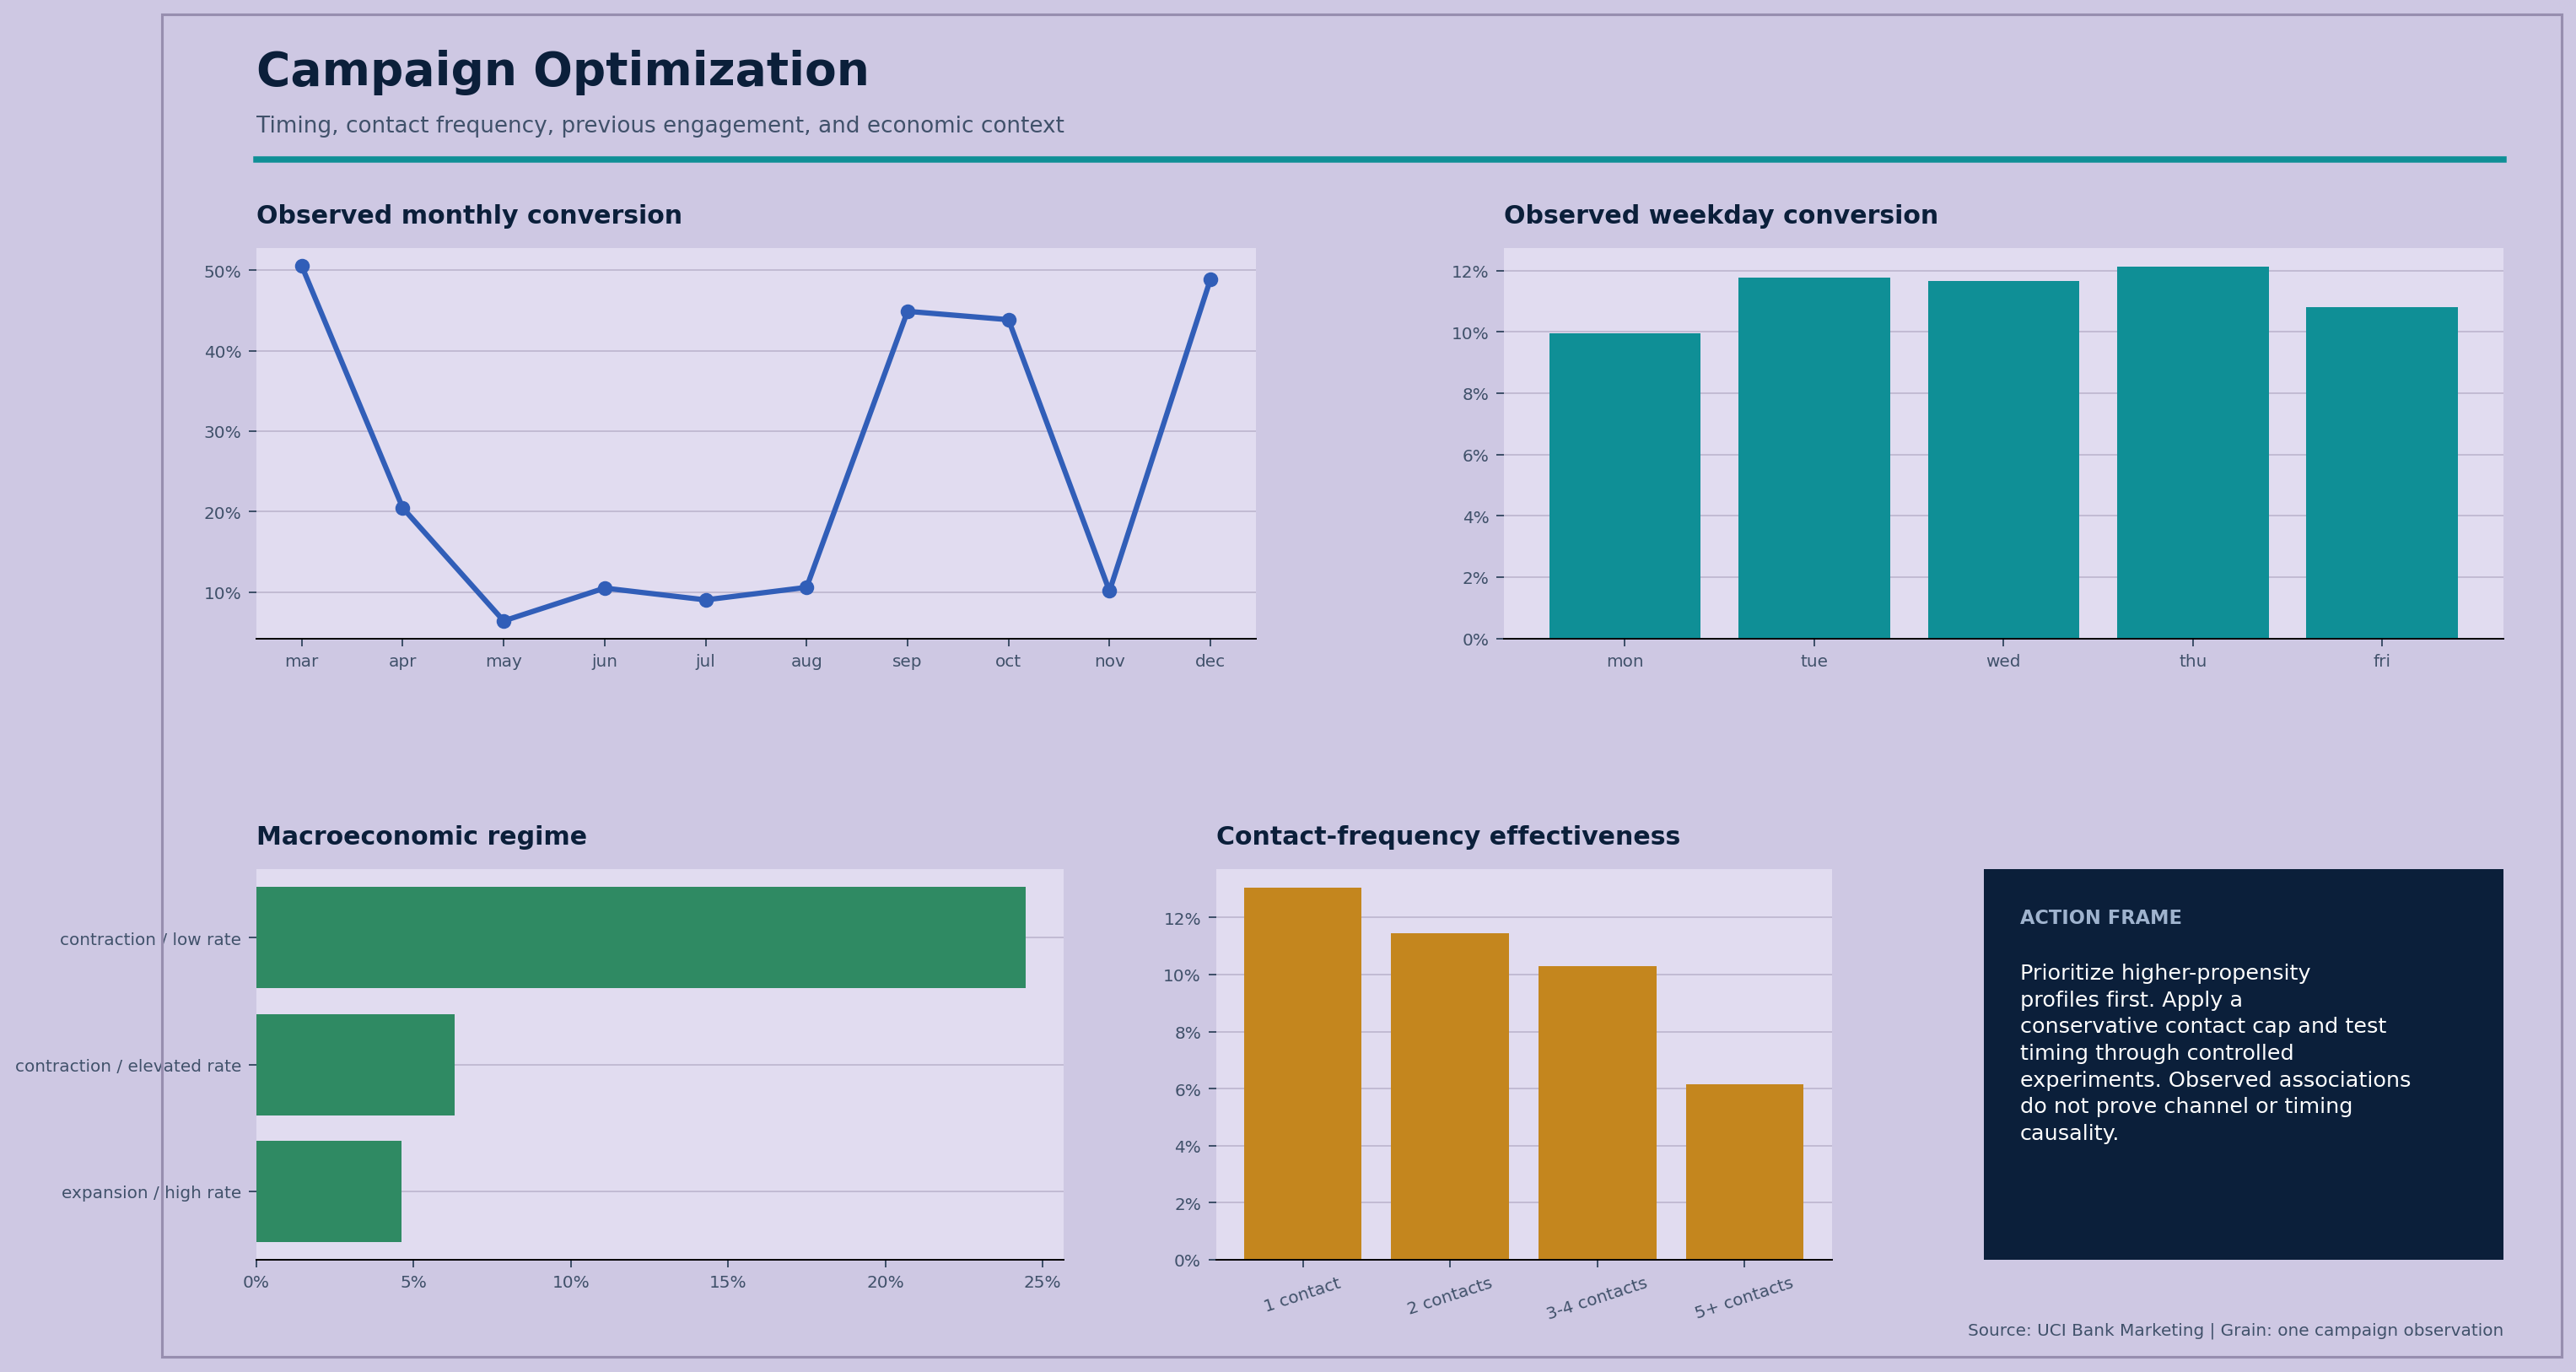

The dashboard page shown, as its layout file describes it:
{"tool":"powerbi","page":{"name":"Campaign Optimization","canvas":[1280,720],"ordinal":2},"visuals":[{"type":"shape","box":[45,8.3,1188.3,91.7],"z":0},{"type":"clusteredColumnChart","title":"Conversion by Contact Month","fields":{"Category":["dim_contact.contact_month"],"Y":["_Measures.Deposit Conversion Rate"]},"box":[46,378,450,328],"z":1000},{"type":"clusteredColumnChart","title":"Conversion by Weekday","fields":{"Category":["dim_contact.contact_weekday"],"Y":["_Measures.Deposit Conversion Rate"]},"box":[450,106.7,333.3,253.3],"z":2000},{"type":"textbox","box":[122.3,16,425.7,55.7],"z":3000},{"type":"textbox","box":[125.2,64.6,627.1,30],"z":4000},{"type":"image","box":[56.2,27.7,63.8,63.8],"z":5000},{"type":"clusteredBarChart","title":"Conversion by Previous Outcome","fields":{"Category":["fact_campaign_contact.previous_outcome"],"Y":["_Measures.Deposit Conversion Rate"]},"box":[46,106,392,254],"z":6000},{"type":"clusteredBarChart","title":"Conversion by Macro Regime","fields":{"Category":["dim_economic_context.macroeconomic_regime"],"Y":["_Measures.Deposit Conversion Rate"]},"box":[800,106.7,433.3,253.3],"z":7000},{"type":"lineClusteredColumnComboChart","title":"Conversion by Contact Frequency","fields":{"Category":["dim_contact.campaign_contact_band"],"Y":["_Measures.Campaign Observations"],"Y2":["_Measures.Deposit Conversion Rate"]},"box":[510,377.1,367.1,328.6],"z":8000},{"type":"textbox","box":[891.4,377.1,341.4,328.6],"z":9000}]}

Visuals, with their boxes on the page's 1280x720 design canvas (x1, y1, x2, y2). These are canvas units, not pixel positions in the 2576x1372 screenshot, which may show the page scaled, cropped or inside an application window:
shape: <region>45, 8, 1233, 100</region>
"Conversion by Contact Month" clusteredColumnChart: <region>46, 378, 496, 706</region>
"Conversion by Weekday" clusteredColumnChart: <region>450, 107, 783, 360</region>
textbox: <region>122, 16, 548, 72</region>
textbox: <region>125, 65, 752, 95</region>
image: <region>56, 28, 120, 92</region>
"Conversion by Previous Outcome" clusteredBarChart: <region>46, 106, 438, 360</region>
"Conversion by Macro Regime" clusteredBarChart: <region>800, 107, 1233, 360</region>
"Conversion by Contact Frequency" lineClusteredColumnComboChart: <region>510, 377, 877, 706</region>
textbox: <region>891, 377, 1233, 706</region>
